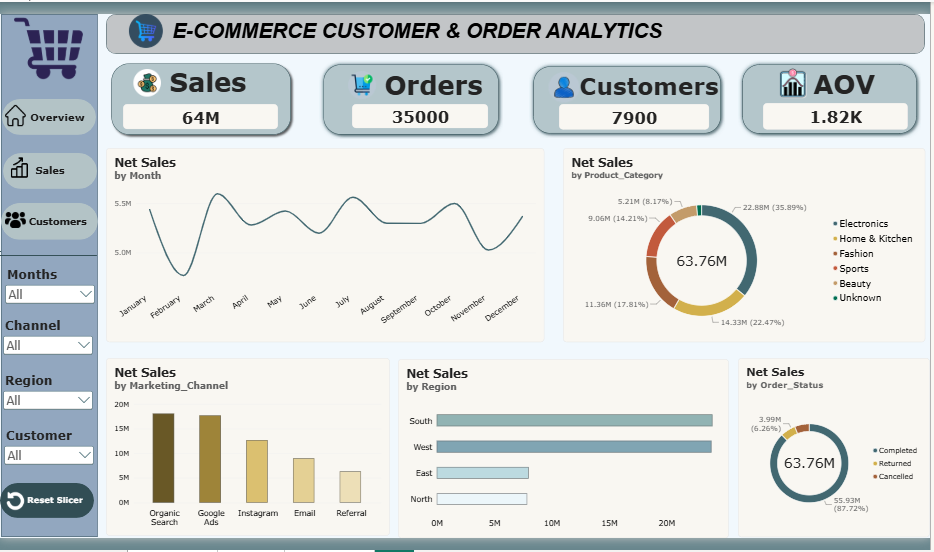

This screenshot's page, from the dashboard's own definition file:
{"tool":"powerbi","page":{"name":"overview","canvas":[1920,1080],"ordinal":0},"visuals":[{"type":"group","id":"g1","title":"Group 12","box":[0,0,202.3,1079.7],"z":0,"group":"g17"},{"type":"group","id":"g2","title":"Group 10","box":[0,0,202.3,1079.7],"z":0,"group":"g1"},{"type":"group","id":"g3","title":"Group 9","box":[1.9,0,200.4,1079.7],"z":0,"group":"g19"},{"type":"shape","box":[1.9,0,200.4,1079.7],"z":0,"group":"g3"},{"type":"group","id":"g4","title":"Group 7","box":[218.8,0,1690.6,82.7],"z":0,"group":"g18"},{"type":"group","id":"g5","title":"Group 1","box":[1522.7,94.5,378,161.1],"z":0,"group":"g15"},{"type":"group","id":"g6","title":"Group 1","box":[1092.1,99.1,405.3,156.6],"z":0,"group":"g10"},{"type":"group","id":"g7","title":"Group 16","box":[4.1,175.5,194.1,74.3],"z":0,"group":"g22"},{"type":"actionButton","box":[4.1,175.5,194.1,74.3],"z":0,"group":"g24"},{"type":"actionButton","box":[6.2,287,194.1,74.3],"z":0,"group":"g25"},{"type":"textbox","box":[332.4,332.4,322.1,57.8],"z":0},{"type":"actionButton","box":[0,968,194.1,72.3],"z":0,"group":"g11"},{"type":"group","id":"g8","title":"Group 1","box":[221.1,93,388.5,165.3],"z":1000,"group":"g14"},{"type":"group","id":"g9","title":"Group 1","box":[658.6,95,379.9,163.1],"z":1000,"group":"g16"},{"type":"group","id":"g10","title":"Group 4","box":[1092.1,99.1,406.7,156.9],"z":1000},{"type":"image","box":[10.3,181.7,43.4,55.7],"z":1000,"group":"g22"},{"type":"cardVisual","fields":{"Data":["Sheet1.Average Order Value"]},"box":[1573.9,183.7,299.3,55.1],"z":1000,"group":"g15"},{"type":"cardVisual","fields":{"Data":["Sheet1.Total_customers"]},"box":[1154.3,186.5,310.9,53.5],"z":1000,"group":"g10"},{"type":"image","box":[16.5,287,47.5,59.9],"z":1000,"group":"g25"},{"type":"shape","box":[0,491.4,200.4,14.5],"z":1000,"group":"g19"},{"type":"group","id":"g11","title":"Group 14","box":[0,968,194.1,72.3],"z":1000,"group":"g17"},{"type":"image","box":[10.3,974.5,43.4,61.9],"z":1000,"group":"g11"},{"type":"textbox","box":[340.6,0,1455,82.7],"z":2000,"group":"g18"},{"type":"group","id":"g12","title":"Group 4","box":[1522.7,94.5,378,161.1],"z":2000},{"type":"image","box":[1573,110.9,128.6,63.2],"z":2000,"group":"g15"},{"type":"image","box":[1099.8,119.1,128.3,63.4],"z":2000,"group":"g10"},{"type":"cardVisual","fields":{"Data":["Sheet1.Total Sales"]},"box":[254.2,186,320.3,52.3],"z":2000,"group":"g14"},{"type":"group","id":"g13","title":"Group 2","box":[658.6,95,379.9,163.1],"z":3000},{"type":"textbox","box":[1608.1,110.9,268.4,69.4],"z":3000,"group":"g15"},{"type":"textbox","box":[1181.2,119.1,318.6,75.3],"z":3000,"group":"g10"},{"type":"cardVisual","fields":{"Data":["Sheet1.orders"]},"box":[725.9,186.5,281,50.6],"z":3000,"group":"g16"},{"type":"shape","box":[221.1,93,388.5,165.3],"z":3001,"group":"g8"},{"type":"shape","box":[1522.7,94.5,378,161.1],"z":3001,"group":"g5"},{"type":"shape","box":[658.6,95,379.9,163.1],"z":3001,"group":"g9"},{"type":"shape","box":[1092.1,99.1,405.1,156.5],"z":3001,"group":"g6"},{"type":"group","id":"g14","title":"Group 5","box":[221.1,93,388.5,165.3],"z":4000},{"type":"image","box":[235.6,113.7,137.2,57.2],"z":4000,"group":"g14"},{"type":"group","id":"g15","title":"Group 3","box":[1522.7,94.5,378,161.1],"z":4001,"group":"g12"},{"type":"textbox","box":[289.3,107.5,262.5,76.5],"z":5000,"group":"g14"},{"type":"image","box":[688,117.9,119.7,57.8],"z":5000,"group":"g16"},{"type":"lineChart","title":" Net Sales","fields":{"Y":["Sum(Sheet1.Net_Sales)"],"Category":["Sheet1.Order_Date.Variation.Date Hierarchy.Month"]},"box":[219.2,277.2,904.6,400.6],"z":5000},{"type":"donutChart","fields":{"Category":["Sheet1.Product_Category"],"Y":["Sum(Sheet1.Net_Sales)"]},"box":[1161.6,277.2,748.3,400.6],"z":6000},{"type":"textbox","box":[765,113.1,258.1,80.5],"z":7000,"group":"g16"},{"type":"clusteredBarChart","fields":{"Category":["Sheet1.Region"],"Y":["Sum(Sheet1.Net_Sales)"]},"box":[821.7,712.3,683.4,369.5],"z":7000},{"type":"image","box":[1.9,0,196.2,142.5],"z":8000,"group":"g3"},{"type":"columnChart","title":" Net Sales","fields":{"Category":["Sheet1.Marketing_Channel"],"Y":["Sum(Sheet1.Net_Sales)"]},"box":[218.8,710.2,586.3,367.5],"z":8000},{"type":"donutChart","title":"Net Sales","fields":{"Category":["Sheet1.Order_Status"],"Y":["Sum(Sheet1.Net_Sales)"]},"box":[1523.6,710.2,396.4,369.5],"z":9000},{"type":"shape","box":[0,415,198.2,150.7],"z":10000},{"type":"group","id":"g16","title":"Group 6","box":[658.6,95,379.9,163.1],"z":10002,"group":"g13"},{"type":"group","id":"g17","title":"Group 13","box":[0,0,202.3,1079.7],"z":11000,"group":"g23"},{"type":"group","id":"g18","title":"Group 15","box":[218.8,0,1690.8,82.6],"z":13000},{"type":"image","box":[262.5,0,78.5,70.3],"z":14000},{"type":"group","id":"g19","title":"Group 11","box":[0,0,202.3,1079.7],"z":14001,"group":"g2"},{"type":"shape","box":[218.8,0,1690.6,82.7],"z":14006,"group":"g4"},{"type":"group","id":"g20","title":"Group 16","box":[6.2,287,194.1,74.3],"z":15000,"group":"g23"},{"type":"group","id":"g21","title":"Group 18","box":[2.1,390.2,200,76],"z":16000,"group":"g23"},{"type":"actionButton","box":[2.1,390.2,200,76],"z":16000,"group":"g21"},{"type":"group","id":"g22","title":"Group 8","box":[4.1,175.5,194.1,74.3],"z":17000,"group":"g23"},{"type":"image","box":[10.4,390.2,43.4,70.2],"z":17000,"group":"g21"},{"type":"slicer","fields":{"Values":["Sheet1.Marketing_Channel"]},"box":[1.9,627.6,194.1,86.7],"z":17000,"group":"g3"},{"type":"group","id":"g23","title":"Group 19","box":[0,0,202.3,1079.7],"z":17001},{"type":"group","id":"g24","title":"Group 17","box":[4.1,175.5,194.1,74.3],"z":17001,"group":"g7"},{"type":"group","id":"g25","title":"Group 17","box":[6.2,287,194.1,74.3],"z":17001,"group":"g20"},{"type":"slicer","fields":{"Values":["Sheet1.Region"]},"box":[1.9,741.2,194.1,86.7],"z":18000,"group":"g3"},{"type":"slicer","fields":{"Values":["Sheet1.Customer_Type"]},"box":[4,854.7,194.1,86.7],"z":19000,"group":"g3"},{"type":"slicer","fields":{"Values":["Sheet1.Order_Date.Variation.Date Hierarchy.Month"]},"box":[6.1,522.3,194.1,86.7],"z":20000,"group":"g3"}]}

Visuals, with their boxes on the page's 1920x1080 design canvas (x1, y1, x2, y2). These are canvas units, not pixel positions in the 934x552 screenshot, which may show the page scaled, cropped or inside an application window:
"Group 12" group: bbox=[0, 0, 202, 1080]
"Group 10" group: bbox=[0, 0, 202, 1080]
"Group 9" group: bbox=[2, 0, 202, 1080]
shape: bbox=[2, 0, 202, 1080]
"Group 7" group: bbox=[219, 0, 1909, 83]
"Group 1" group: bbox=[1523, 94, 1901, 256]
"Group 1" group: bbox=[1092, 99, 1497, 256]
"Group 16" group: bbox=[4, 176, 198, 250]
actionButton: bbox=[4, 176, 198, 250]
actionButton: bbox=[6, 287, 200, 361]
textbox: bbox=[332, 332, 654, 390]
actionButton: bbox=[0, 968, 194, 1040]
"Group 1" group: bbox=[221, 93, 610, 258]
"Group 1" group: bbox=[659, 95, 1038, 258]
"Group 4" group: bbox=[1092, 99, 1499, 256]
image: bbox=[10, 182, 54, 237]
cardVisual - Sheet1.Average Order Value: bbox=[1574, 184, 1873, 239]
cardVisual - Sheet1.Total_customers: bbox=[1154, 186, 1465, 240]
image: bbox=[16, 287, 64, 347]
shape: bbox=[0, 491, 200, 506]
"Group 14" group: bbox=[0, 968, 194, 1040]
image: bbox=[10, 974, 54, 1036]
textbox: bbox=[341, 0, 1796, 83]
"Group 4" group: bbox=[1523, 94, 1901, 256]
image: bbox=[1573, 111, 1702, 174]
image: bbox=[1100, 119, 1228, 182]
cardVisual - Sheet1.Total Sales: bbox=[254, 186, 574, 238]
"Group 2" group: bbox=[659, 95, 1038, 258]
textbox: bbox=[1608, 111, 1876, 180]
textbox: bbox=[1181, 119, 1500, 194]
cardVisual - Sheet1.orders: bbox=[726, 186, 1007, 237]
shape: bbox=[221, 93, 610, 258]
shape: bbox=[1523, 94, 1901, 256]
shape: bbox=[659, 95, 1038, 258]
shape: bbox=[1092, 99, 1497, 256]
"Group 5" group: bbox=[221, 93, 610, 258]
image: bbox=[236, 114, 373, 171]
"Group 3" group: bbox=[1523, 94, 1901, 256]
textbox: bbox=[289, 108, 552, 184]
image: bbox=[688, 118, 808, 176]
" Net Sales" lineChart: bbox=[219, 277, 1124, 678]
donutChart - Sheet1.Product_Category x Sum(Sheet1.Net_Sales): bbox=[1162, 277, 1910, 678]
textbox: bbox=[765, 113, 1023, 194]
clusteredBarChart - Sheet1.Region x Sum(Sheet1.Net_Sales): bbox=[822, 712, 1505, 1082]
image: bbox=[2, 0, 198, 142]
" Net Sales" columnChart: bbox=[219, 710, 805, 1078]
"Net Sales" donutChart: bbox=[1524, 710, 1920, 1080]
shape: bbox=[0, 415, 198, 566]
"Group 6" group: bbox=[659, 95, 1038, 258]
"Group 13" group: bbox=[0, 0, 202, 1080]
"Group 15" group: bbox=[219, 0, 1910, 83]
image: bbox=[262, 0, 341, 70]
"Group 11" group: bbox=[0, 0, 202, 1080]
shape: bbox=[219, 0, 1909, 83]
"Group 16" group: bbox=[6, 287, 200, 361]
"Group 18" group: bbox=[2, 390, 202, 466]
actionButton: bbox=[2, 390, 202, 466]
"Group 8" group: bbox=[4, 176, 198, 250]
image: bbox=[10, 390, 54, 460]
slicer - Sheet1.Marketing_Channel: bbox=[2, 628, 196, 714]
"Group 19" group: bbox=[0, 0, 202, 1080]
"Group 17" group: bbox=[4, 176, 198, 250]
"Group 17" group: bbox=[6, 287, 200, 361]
slicer - Sheet1.Region: bbox=[2, 741, 196, 828]
slicer - Sheet1.Customer_Type: bbox=[4, 855, 198, 941]
slicer - Sheet1.Order_Date.Variation.Date Hierarchy.Month: bbox=[6, 522, 200, 609]
